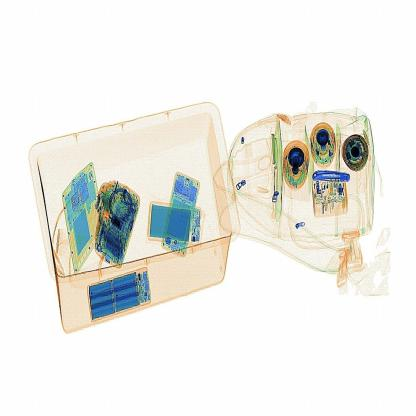knife: (309, 164, 358, 188)
